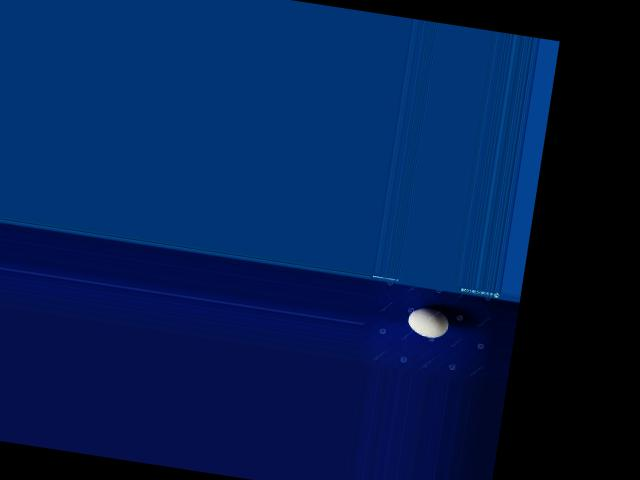egg: (405, 304, 450, 339)
